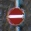No entry: (6, 6, 26, 26)
